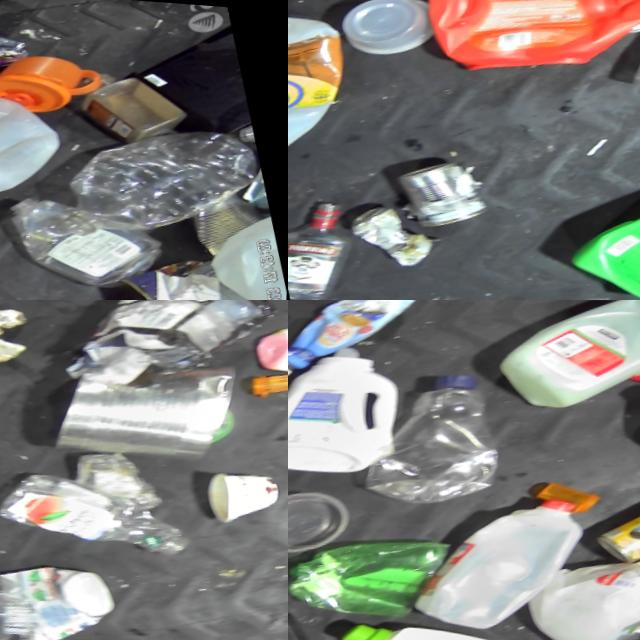can: (393, 146, 500, 235), (357, 192, 446, 273), (594, 483, 640, 561), (0, 0, 42, 80)
milk_jug: (413, 476, 598, 628), (530, 537, 640, 640), (0, 57, 70, 213)
non_white_jug: (417, 0, 640, 89), (499, 300, 640, 407), (563, 148, 640, 300)
plastic_bottle: (0, 436, 200, 591), (60, 97, 269, 242), (0, 158, 176, 300), (0, 563, 60, 640)
